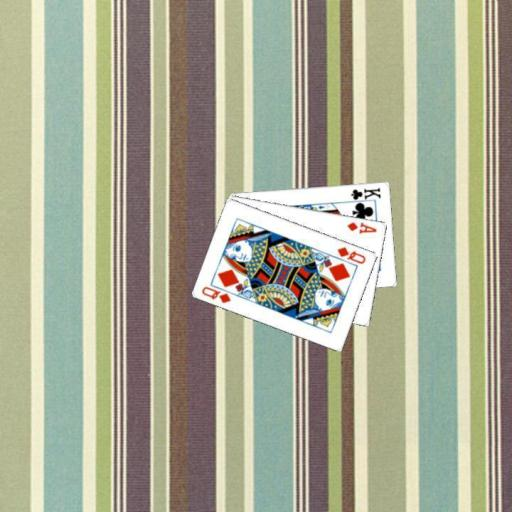card-corner: (334, 243, 368, 265), (345, 184, 382, 204), (199, 283, 233, 304), (344, 219, 378, 235)
